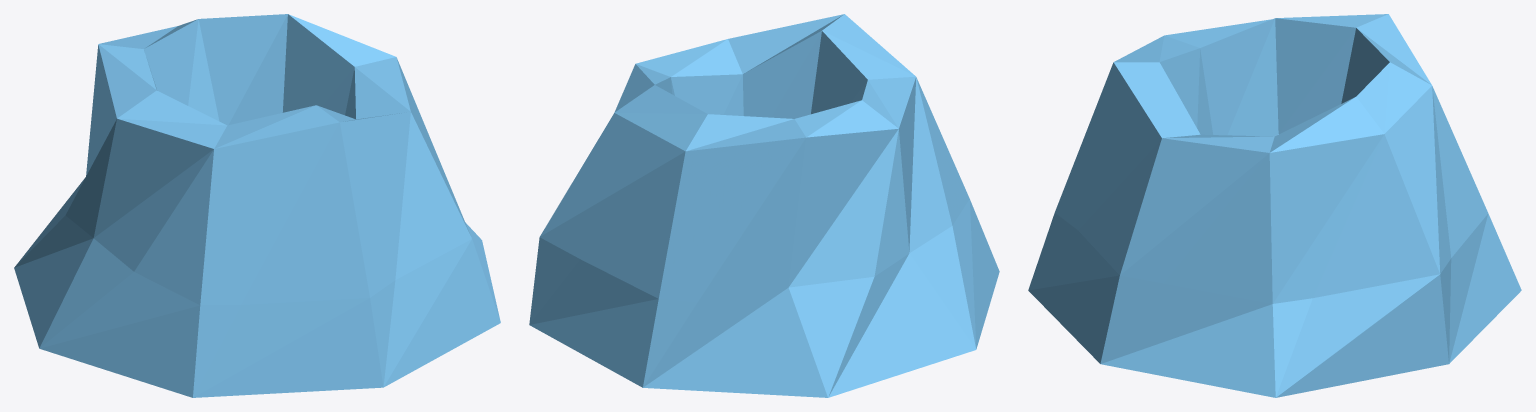
The model's file is SP_Plant05.fbx.
The picture shows the model from 3 angles, left to right: view 1: azimuth 30°, elevation 25°; view 2: azimuth 150°, elevation 25°; view 3: azimuth 270°, elevation 25°; orthographic projection. The views are drawn at different scales.
Parts seen in each view (by area): view 1: SP_Plant05; view 2: SP_Plant05; view 3: SP_Plant05.
Part boxes in pixels (x1,y1,x2,y2): SP_Plant05: [14, 14, 500, 397]; SP_Plant05: [529, 14, 999, 397]; SP_Plant05: [1028, 14, 1521, 397].
Bounding box in the file's own units: 29.89 × 15.04 × 29.46.
Materials: 1 (1 with a texture image).
